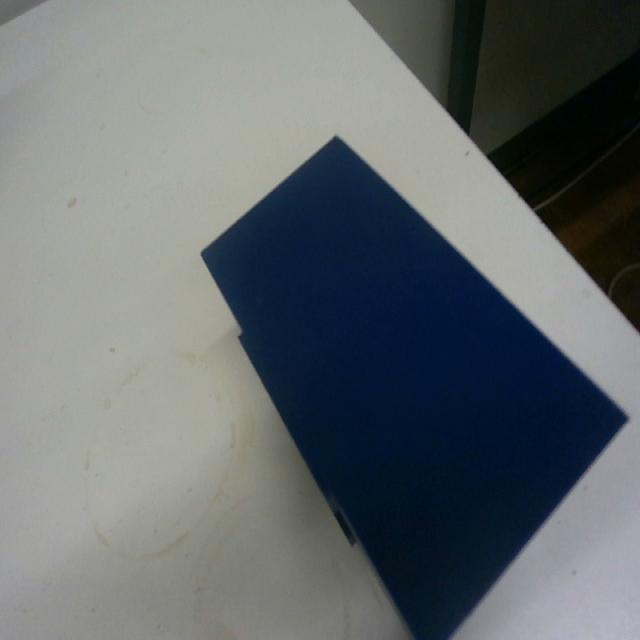Blue Cuboid: (198, 131, 630, 638)
